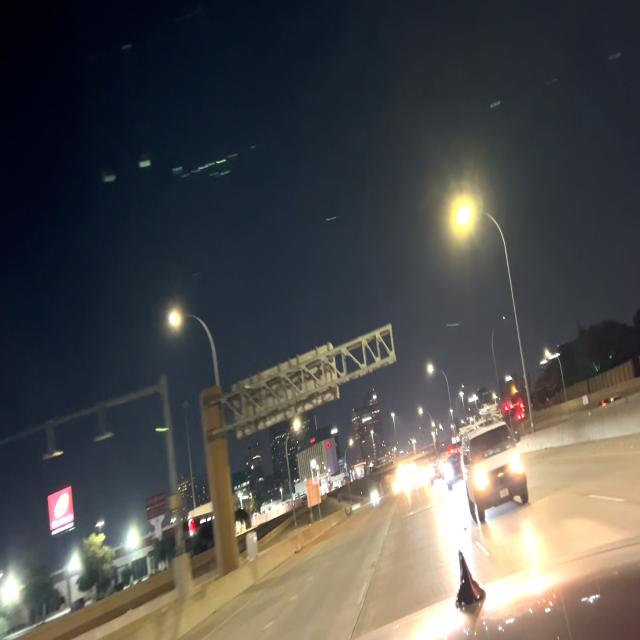back-of-sign: (230, 341, 339, 438), (304, 476, 322, 508)
